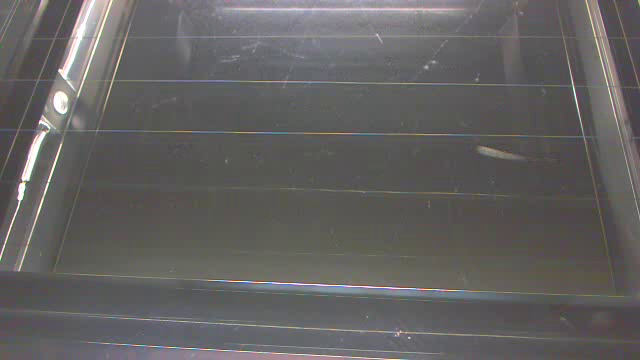alpha: (475, 143, 526, 160)
